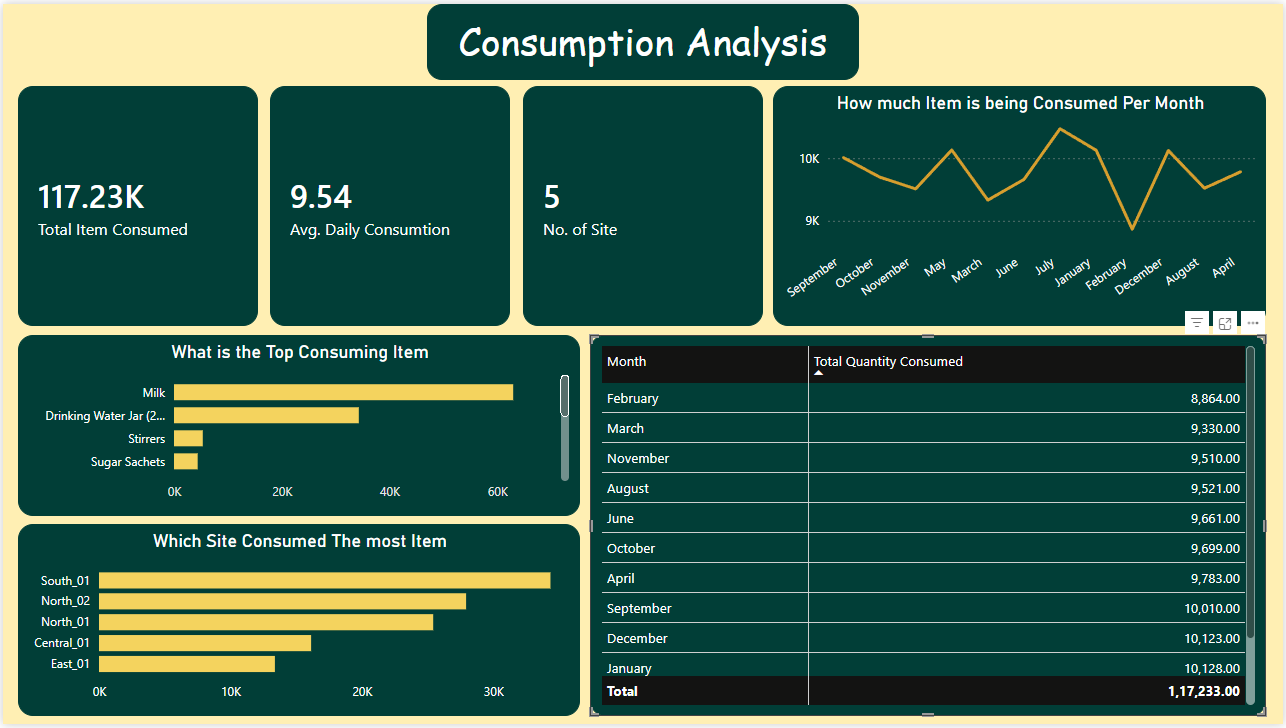

Layout of this report page (visuals, bound fields, positions):
{"tool":"powerbi","page":{"name":"Consumption Analysis","canvas":[1280,720],"ordinal":1},"visuals":[{"type":"cardVisual","fields":{"Data":["Sum(Consumption Summary.total_qty_drawn)"]},"box":[15.1,81.9,240,240],"z":0},{"type":"cardVisual","fields":{"Data":["Avg(Consumption Summary.total_qty_drawn)"]},"box":[266.7,81.8,240,240],"z":1000},{"type":"cardVisual","fields":{"Data":["Count(Consumption Summary.site_id)"]},"box":[520,81.8,240,240],"z":2000},{"type":"clusteredBarChart","title":"What is the Top Consuming Item","fields":{"Y":["Sum(Consumption Summary.total_qty_drawn)"],"Category":["Consumption Summary.item_name"]},"box":[15.1,330.7,561.8,181.3],"z":3000},{"type":"clusteredBarChart","title":"Which Site Consumed The most Item","fields":{"Category":["Consumption Summary.site_id"],"Y":["Sum(Consumption Summary.total_qty_drawn)"]},"box":[15.1,520,561.8,192],"z":4000},{"type":"lineChart","title":"How much Item is being  Consumed Per Month","fields":{"Y":["Sum(Consumption Summary.total_qty_drawn)"],"Category":["Consumption Summary.month_name"]},"box":[769.8,81.8,493.3,240],"z":5000},{"type":"textbox","box":[424.4,0,431.1,75.6],"z":6000},{"type":"tableEx","fields":{"Values":["Consumption Summary.month_name","Sum(Consumption Summary.total_qty_drawn)"]},"box":[587,331,676,381],"z":7000}]}

Visuals, with their boxes in screenshot pixels (x1, y1, x2, y2), scaled from the page's 1280x720 canvas onto the 1286x728 screenshot:
cardVisual - Sum(Consumption Summary.total_qty_drawn): region(15, 83, 256, 325)
cardVisual - Avg(Consumption Summary.total_qty_drawn): region(268, 83, 509, 325)
cardVisual - Count(Consumption Summary.site_id): region(522, 83, 764, 325)
"What is the Top Consuming Item" clusteredBarChart: region(15, 334, 580, 518)
"Which Site Consumed The most Item" clusteredBarChart: region(15, 526, 580, 720)
"How much Item is being  Consumed Per Month" lineChart: region(773, 83, 1269, 325)
textbox: region(426, 0, 860, 76)
tableEx - Consumption Summary.month_name x Sum(Consumption Summary.total_qty_drawn): region(590, 335, 1269, 720)
